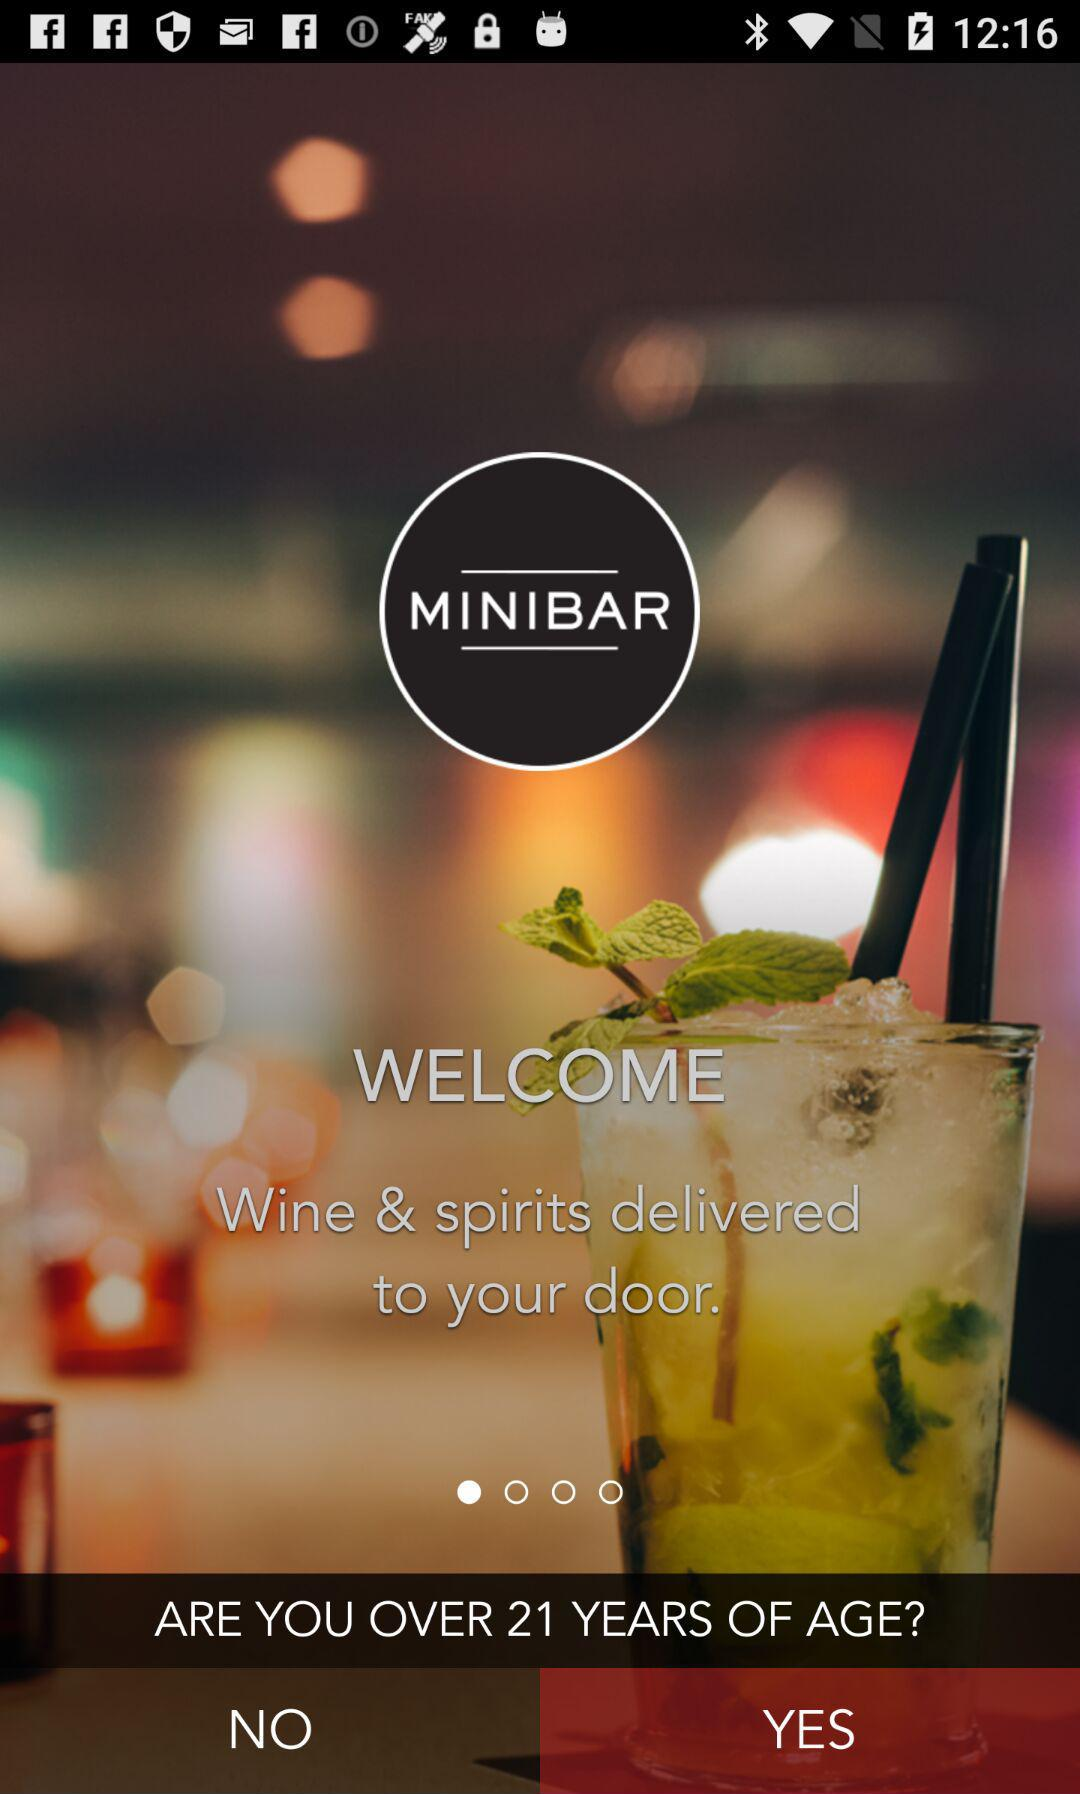BackgroundImage: (1, 64, 1080, 1574)
Image: (377, 450, 701, 771)
PageIndicator: (456, 1477, 625, 1507)
Text: (211, 1181, 861, 1329), (154, 1601, 926, 1639), (350, 1046, 724, 1105)
TextButton: (1, 1668, 541, 1794), (541, 1668, 1080, 1794)
UpperTaskBar: (1, 1, 1080, 64)
